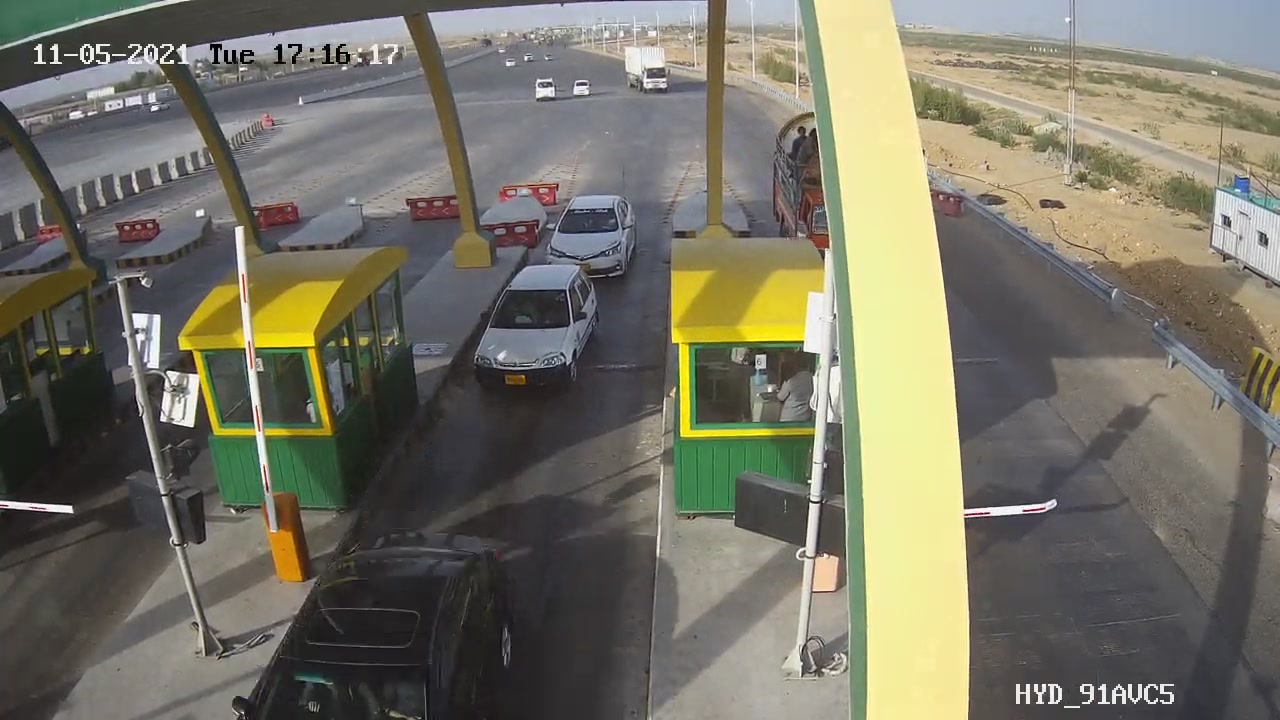F1: (461, 255, 616, 405), (529, 186, 652, 296)
